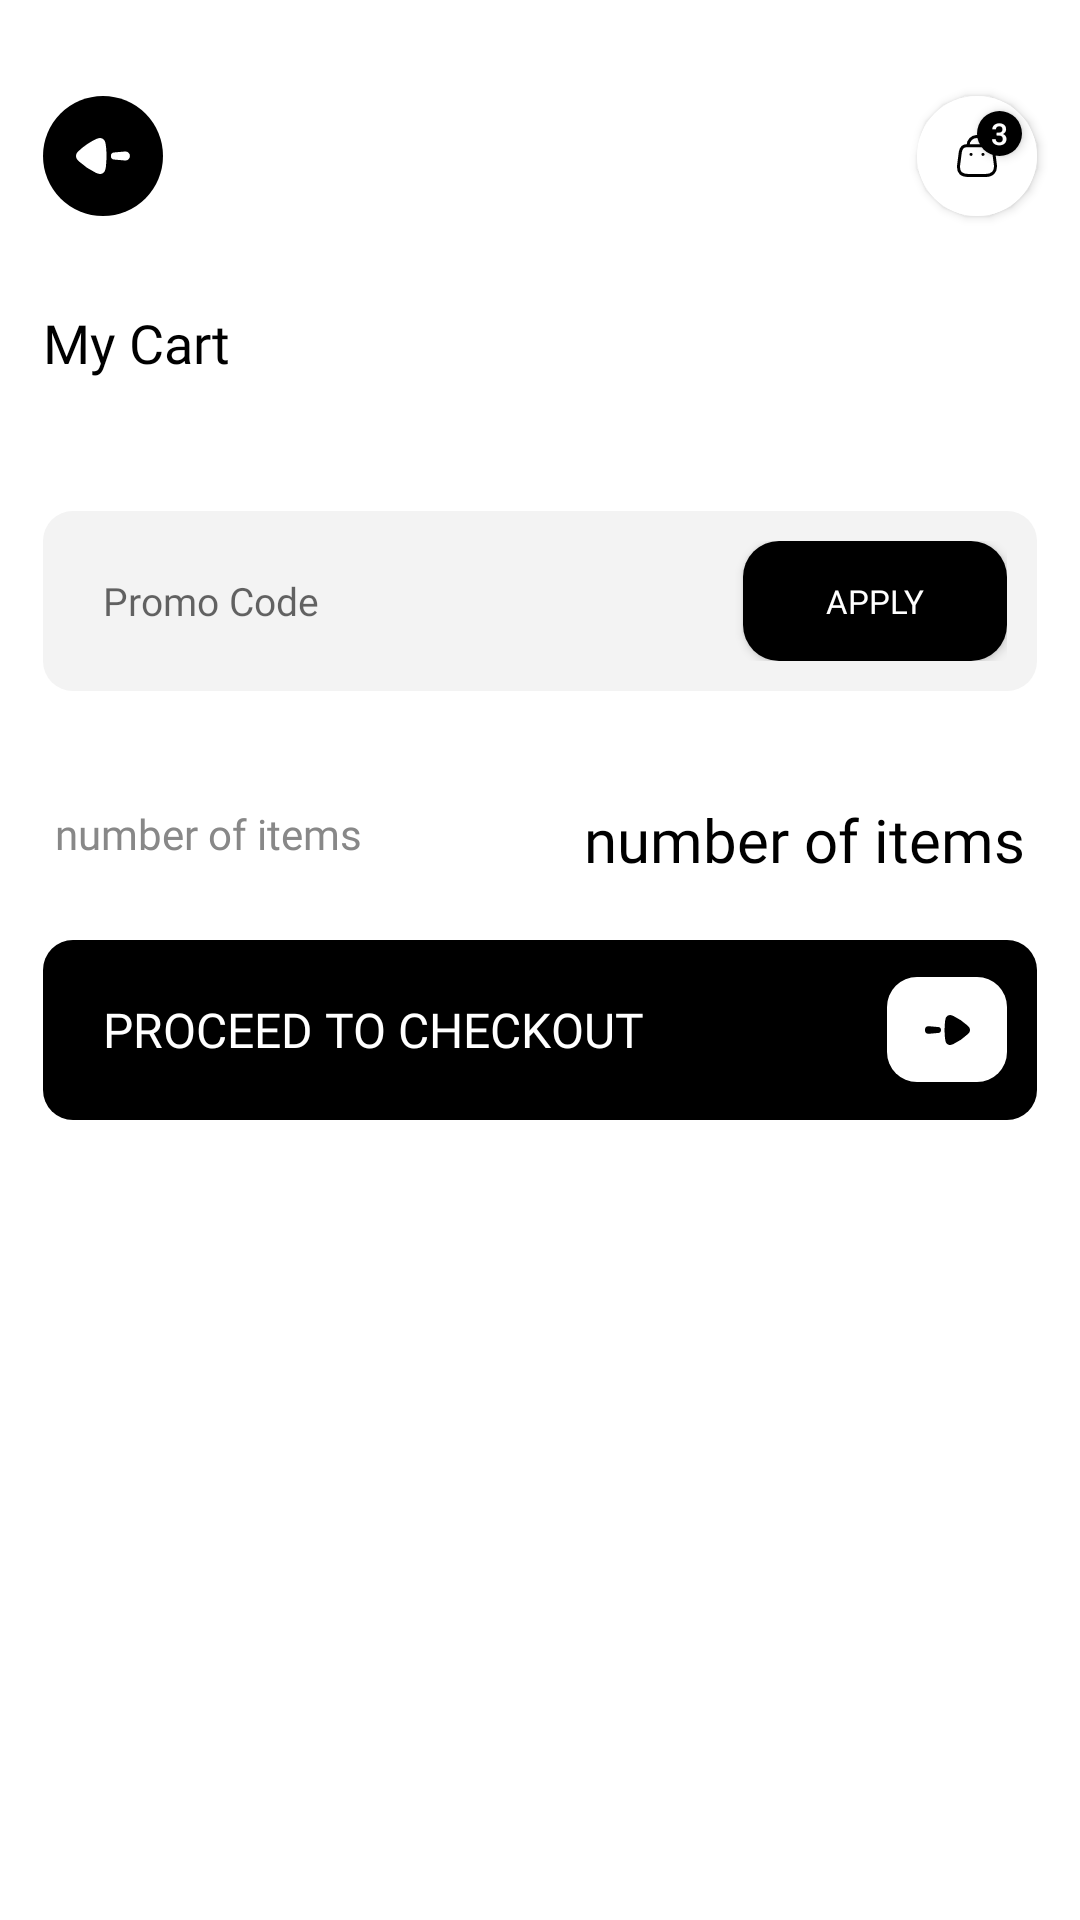

Named icons in this screenshot (1080x1920) and their bounding boxes, Rect(x1, y1, x2, y2):
Back Button Image: Rect(43, 96, 163, 216)
Cart Image: Rect(957, 97, 1037, 216)
